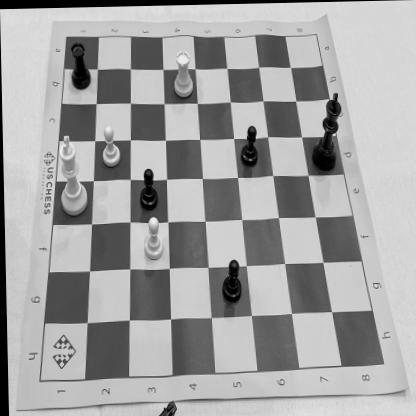black-king: (306, 87, 346, 176)
black-pawn: (214, 254, 246, 310), (234, 118, 263, 172), (134, 161, 160, 213)
black-rook: (66, 36, 95, 95)
white-king: (54, 128, 94, 220)
white-pawn: (138, 212, 166, 264), (96, 120, 122, 168)
white-rook: (168, 46, 198, 105)
